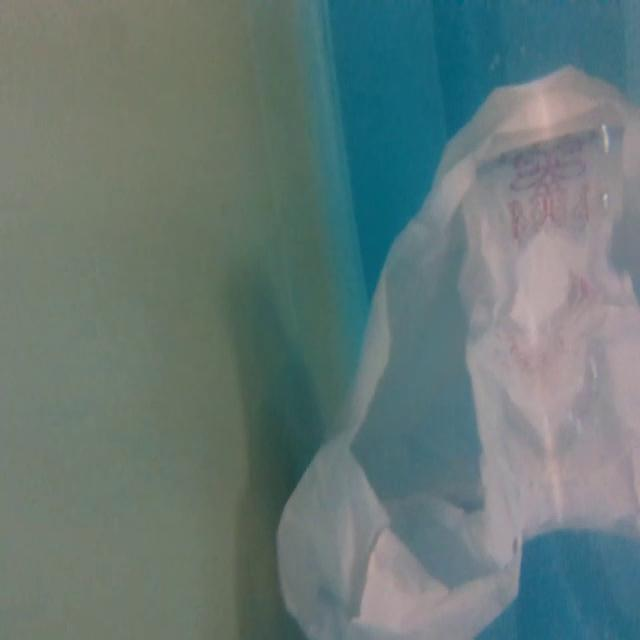plastic bags: (272, 56, 640, 640)
